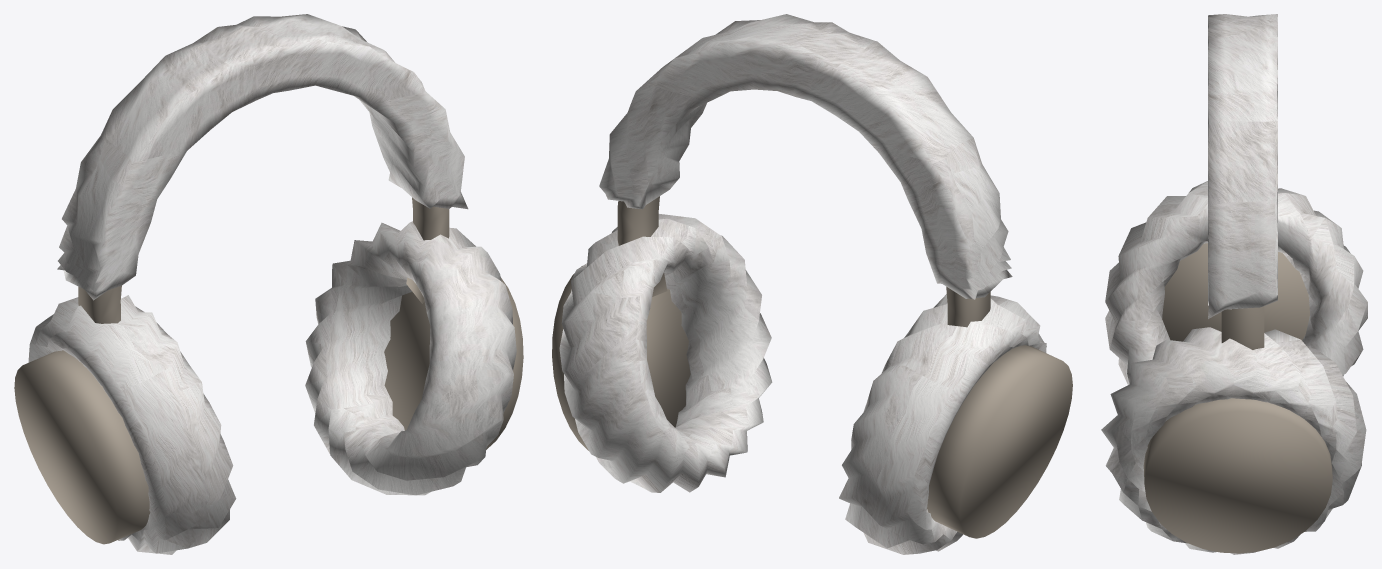
File: Earmuffs.fbx
The picture shows the model from 3 angles, left to right: view 1: azimuth 30°, elevation 25°; view 2: azimuth 150°, elevation 25°; view 3: azimuth 270°, elevation 25°; orthographic projection. The views are drawn at different scales.
Parts seen in each view (by area): view 1: Text.002; view 2: Text.002; view 3: Text.002.
Boxes of the visible parts, bbox=[...] form: Text.002: bbox=[14, 14, 523, 554]; Text.002: bbox=[552, 14, 1072, 554]; Text.002: bbox=[1101, 14, 1367, 554].
Size of the model in its own units: 313 by 321 by 170.
Materials: 2 (1 with a texture image).
